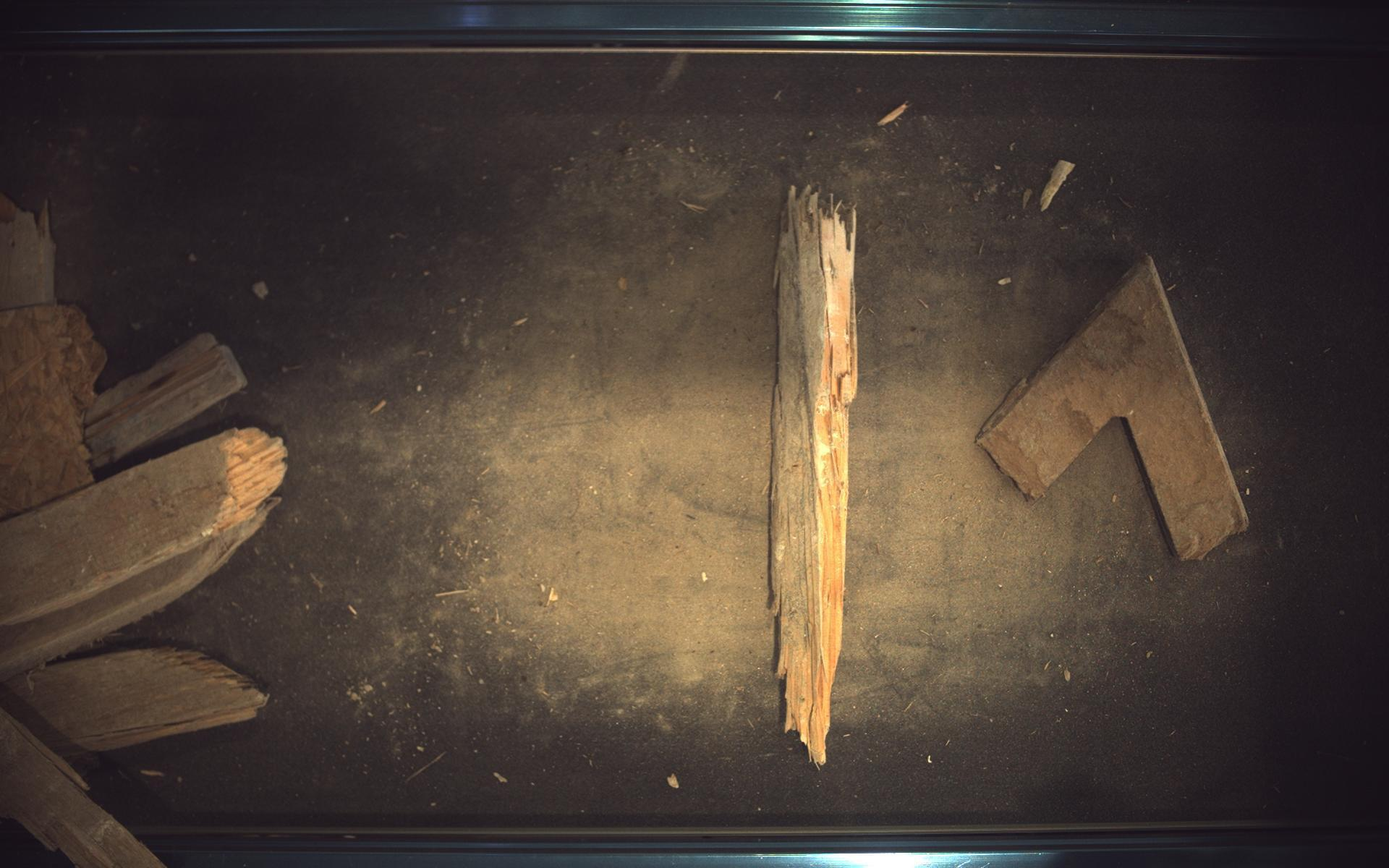wood: (979, 255, 1252, 561), (1, 428, 286, 626), (1, 498, 279, 682), (771, 186, 859, 767), (7, 648, 267, 752), (1, 710, 164, 868), (1, 304, 105, 519), (82, 333, 247, 467), (1, 192, 54, 310)
